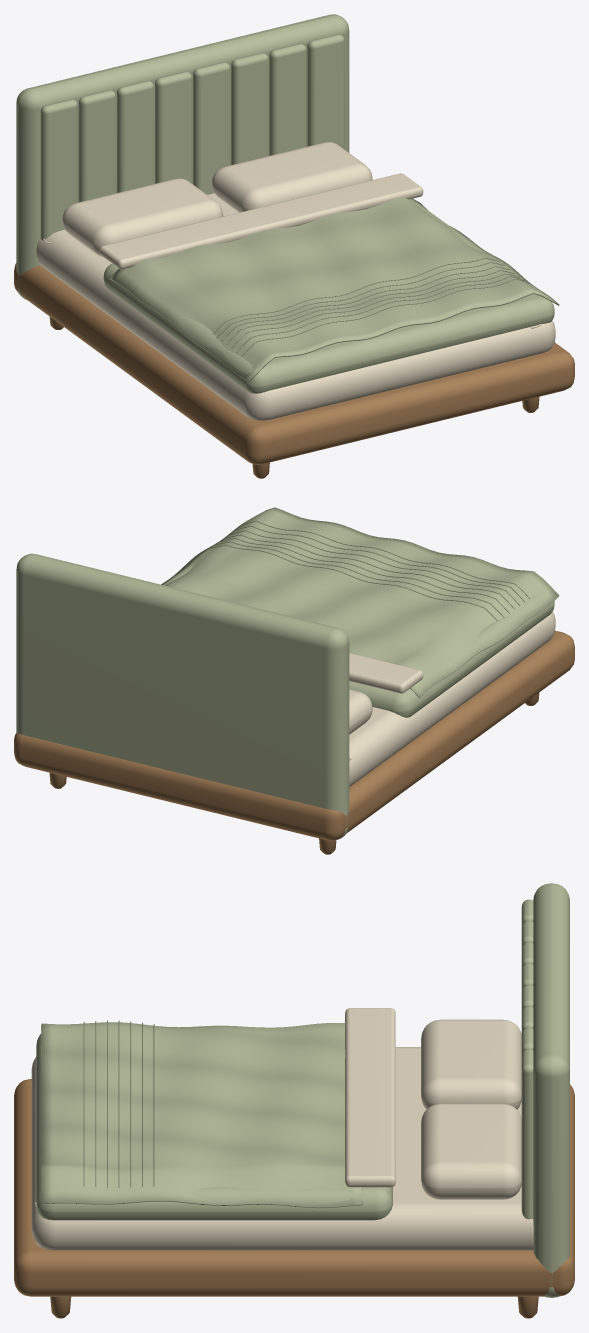
Rendered from bed.glb.
3 renders of one model, top to bottom at view 1: azimuth 30°, elevation 25°; view 2: azimuth 150°, elevation 25°; view 3: azimuth 270°, elevation 25°, orthographic. The views are drawn at different scales.
Visible parts, largest first — view 1: bed__Dye_Main_bed, bed__Oat_linen, bed__Oak_frame, bed__Dye_Seam_bed; view 2: bed__Dye_Main_bed, bed__Oak_frame, bed__Oat_linen, bed__Dye_Seam_bed; view 3: bed__Dye_Main_bed, bed__Oat_linen, bed__Oak_frame, bed__Dye_Seam_bed.
Part boxes in pixels (x1=…): bed__Dye_Main_bed: x1=16, y1=14, x2=559, y2=393; bed__Oat_linen: x1=36, y1=142, x2=555, y2=420; bed__Oak_frame: x1=14, y1=263, x2=574, y2=478; bed__Dye_Seam_bed: x1=212, y1=257, x2=530, y2=356; bed__Dye_Main_bed: x1=16, y1=507, x2=559, y2=840; bed__Oak_frame: x1=14, y1=630, x2=574, y2=854; bed__Oat_linen: x1=349, y1=611, x2=555, y2=786; bed__Dye_Seam_bed: x1=211, y1=520, x2=530, y2=621; bed__Dye_Main_bed: x1=36, y1=883, x2=569, y2=1297; bed__Oat_linen: x1=31, y1=1008, x2=533, y2=1250; bed__Oak_frame: x1=14, y1=1079, x2=574, y2=1318; bed__Dye_Seam_bed: x1=83, y1=1020, x2=154, y2=1187.
Size of the model in its own units: 2.24 by 1.54 by 2.88.
